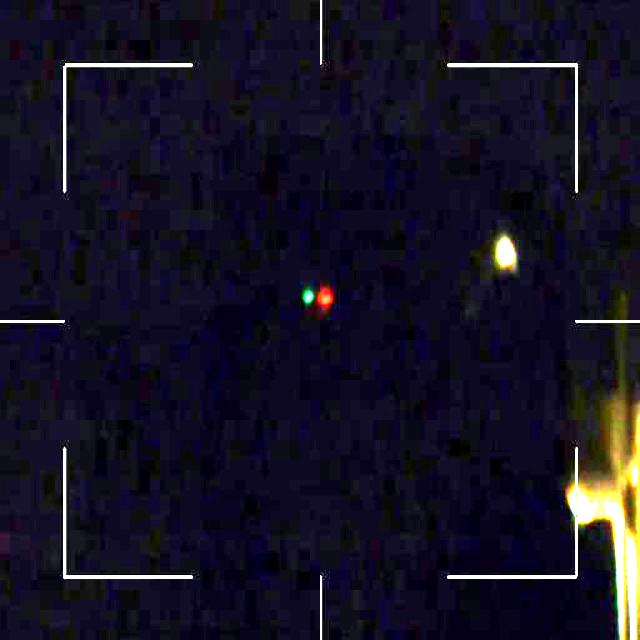bird: (302, 285, 334, 325)
